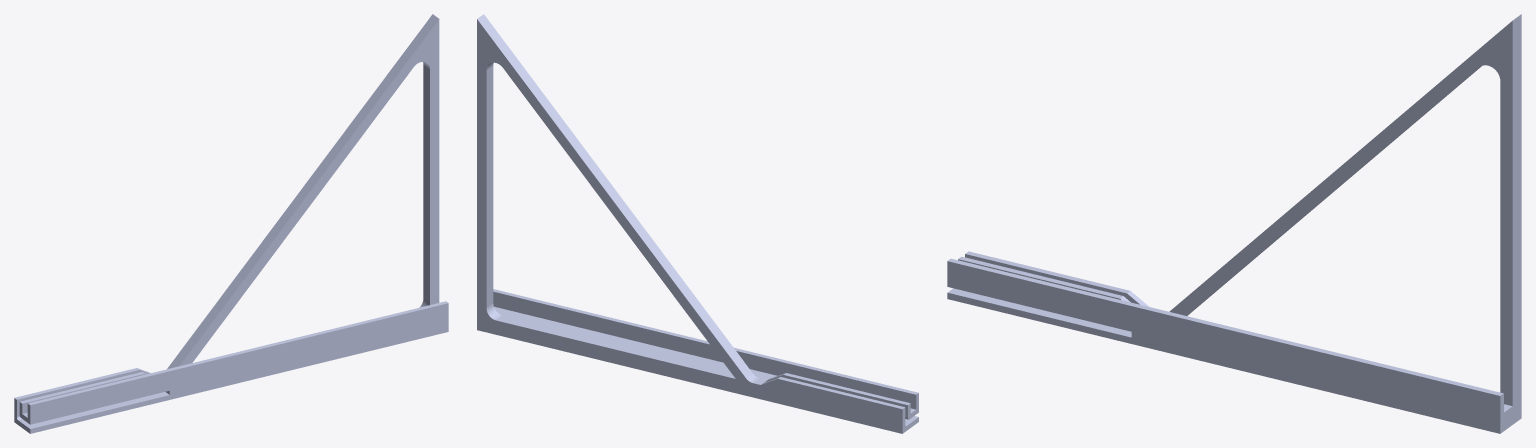
The model's file is music_stand_extender.glb.
3 renders of one model, left to right at view 1: azimuth 30°, elevation 25°; view 2: azimuth 150°, elevation 25°; view 3: azimuth 330°, elevation 25°, orthographic. The views are drawn at different scales.
Visible parts, largest first — view 1: empty_2; view 2: empty_2; view 3: empty_2.
Part boxes in pixels (x1,y1,x2,y2): empty_2: (14,14,448,433); empty_2: (477,14,918,433); empty_2: (947,14,1521,433).
Bounding box in the file's own units: 229 × 160 × 15.24.
